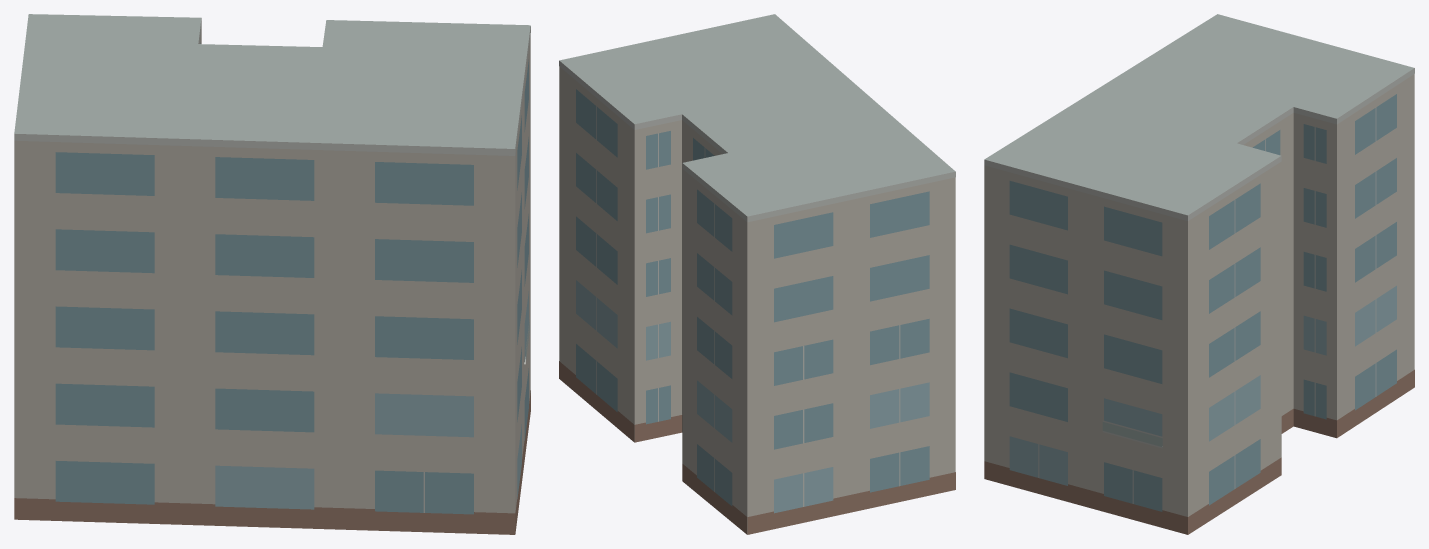
The model's file is survey-upis-32619438.glb.
3 views of the same model, side by side, from view 1: azimuth 30°, elevation 25°; view 2: azimuth 150°, elevation 25°; view 3: azimuth 270°, elevation 25° (orthographic). The views are drawn at different scales.
Visible parts, largest first — view 1: survey-upis-32619438.tmp; view 2: survey-upis-32619438.tmp; view 3: survey-upis-32619438.tmp.
Boxes of the visible parts, box(x1,y1,x2,y2) form: survey-upis-32619438.tmp: box(14, 14, 530, 534); survey-upis-32619438.tmp: box(559, 14, 955, 534); survey-upis-32619438.tmp: box(984, 14, 1414, 534).
Bounding box in the file's own units: 18.27 × 13.5 × 16.5.
